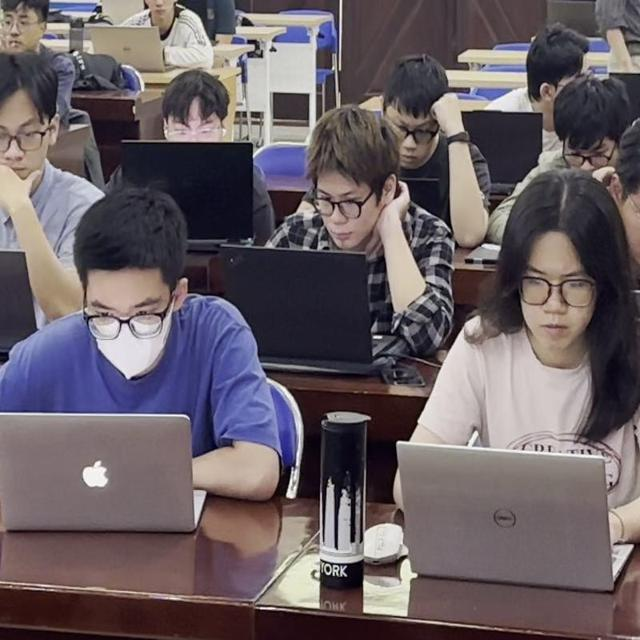Looking away: (62, 199, 196, 379), (498, 177, 589, 349), (299, 106, 397, 257), (3, 48, 57, 226), (376, 53, 438, 164), (552, 79, 615, 186), (164, 69, 227, 169), (522, 26, 580, 123)
Looking forward: (4, 0, 53, 70)
